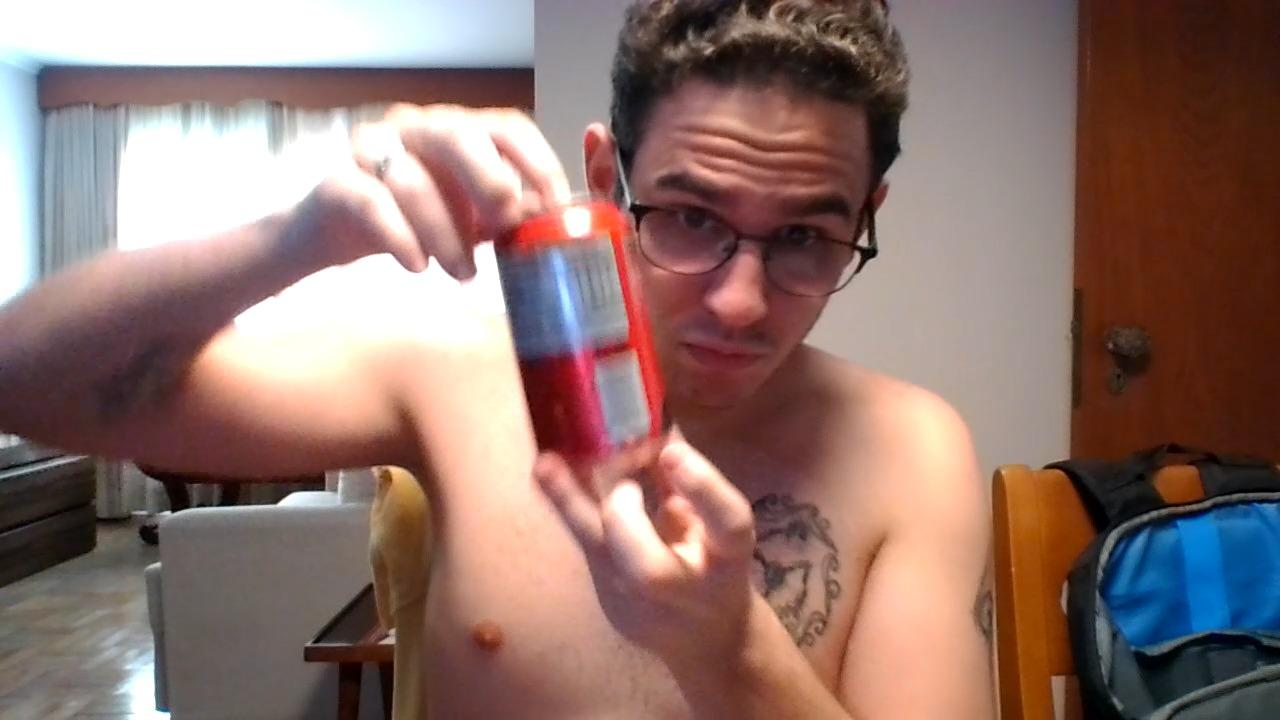coke: (495, 194, 666, 471)
